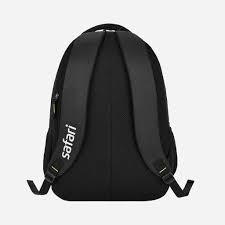backpack: (26, 22, 194, 201)
